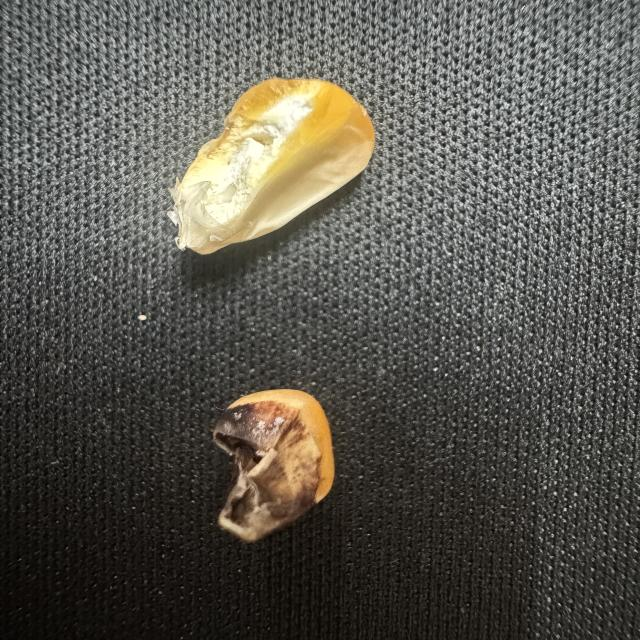Bad-Seed: (160, 72, 381, 256), (209, 385, 337, 542)
